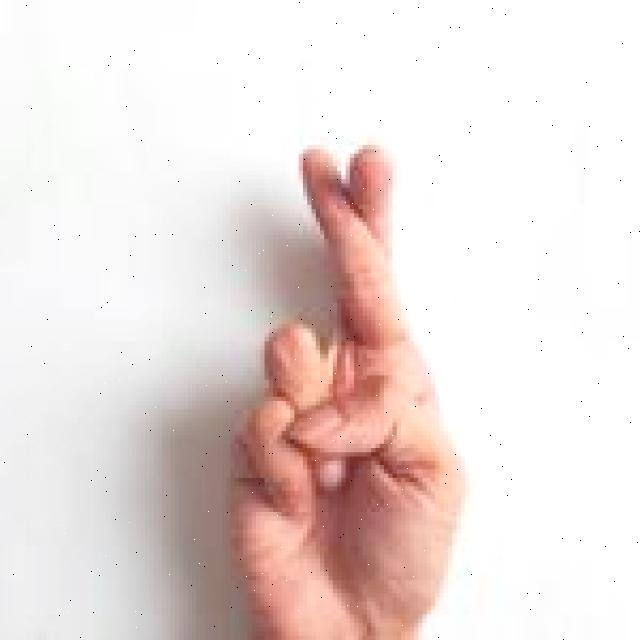R: (223, 139, 474, 640)
